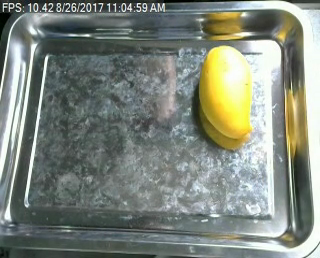Mango: (189, 43, 259, 143)
